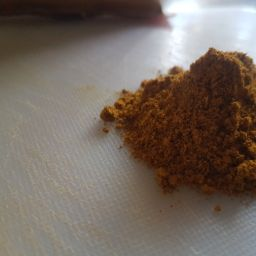Curry powder: (127, 37, 256, 216), (121, 54, 256, 219), (94, 74, 219, 207)
